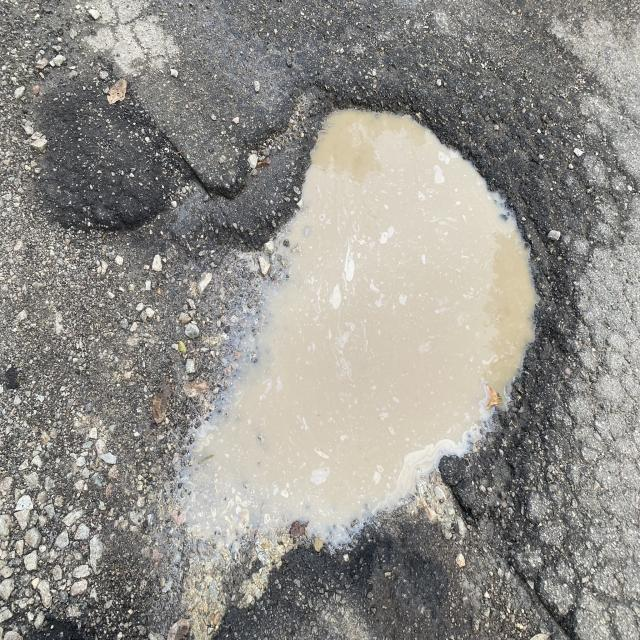Pothole: (152, 25, 578, 578)
